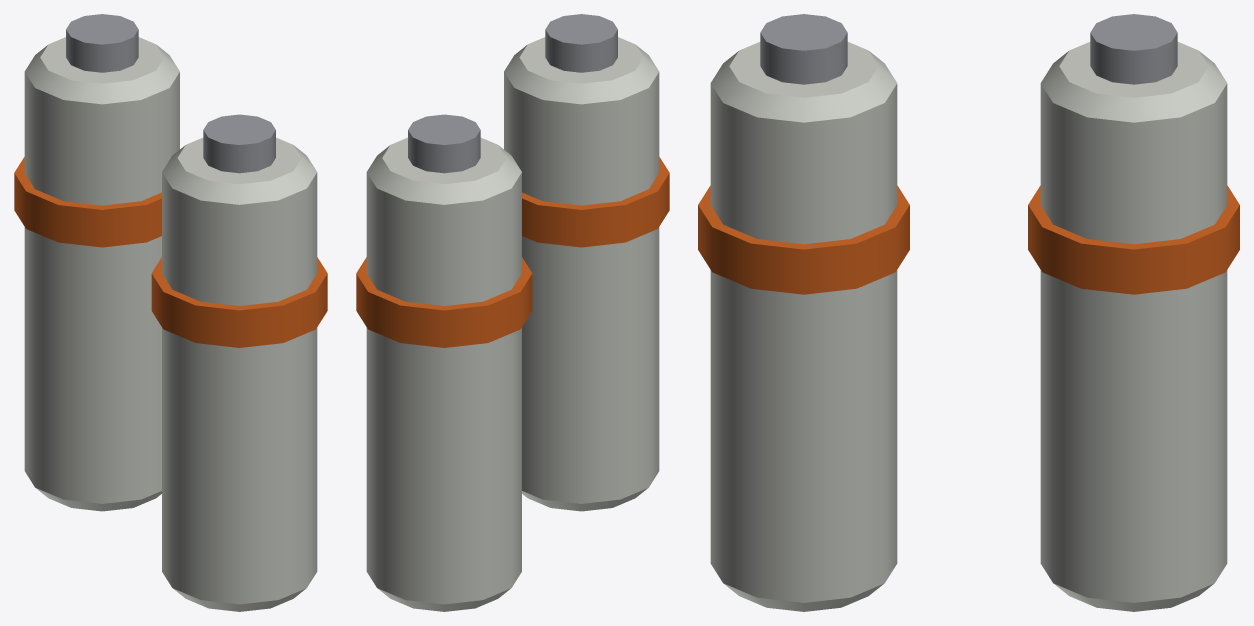
The model's file is o4_scrubber.obj.
3 renders of one model, left to right at view 1: azimuth 30°, elevation 25°; view 2: azimuth 150°, elevation 25°; view 3: azimuth 270°, elevation 25°, orthographic. The views are drawn at different scales.
Parts seen in each view (by area): view 1: o4_scrubber; view 2: o4_scrubber; view 3: o4_scrubber.
Part boxes in pixels (x1=…): o4_scrubber: x1=14, y1=14, x2=327, y2=611; o4_scrubber: x1=356, y1=14, x2=669, y2=611; o4_scrubber: x1=698, y1=14, x2=1239, y2=611.
Bounding box in the file's own units: 0.34 × 0.971 × 0.87.
